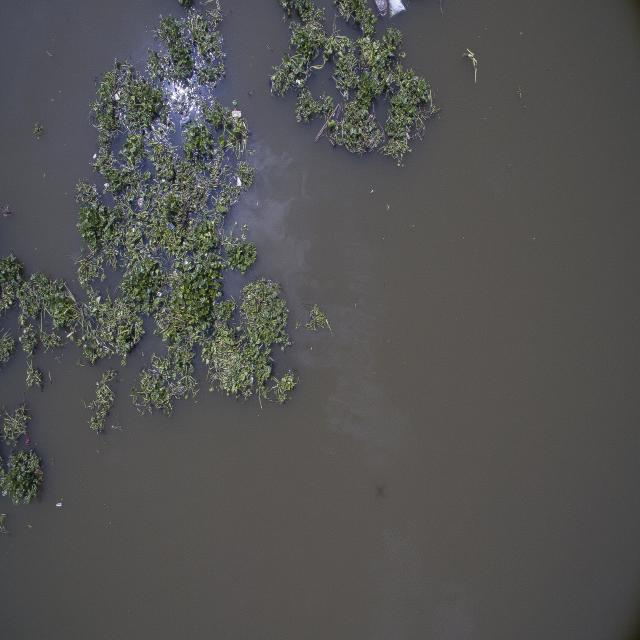plastic: (368, 2, 418, 24), (234, 172, 252, 198), (230, 105, 246, 128), (390, 0, 406, 19), (51, 498, 68, 514)
